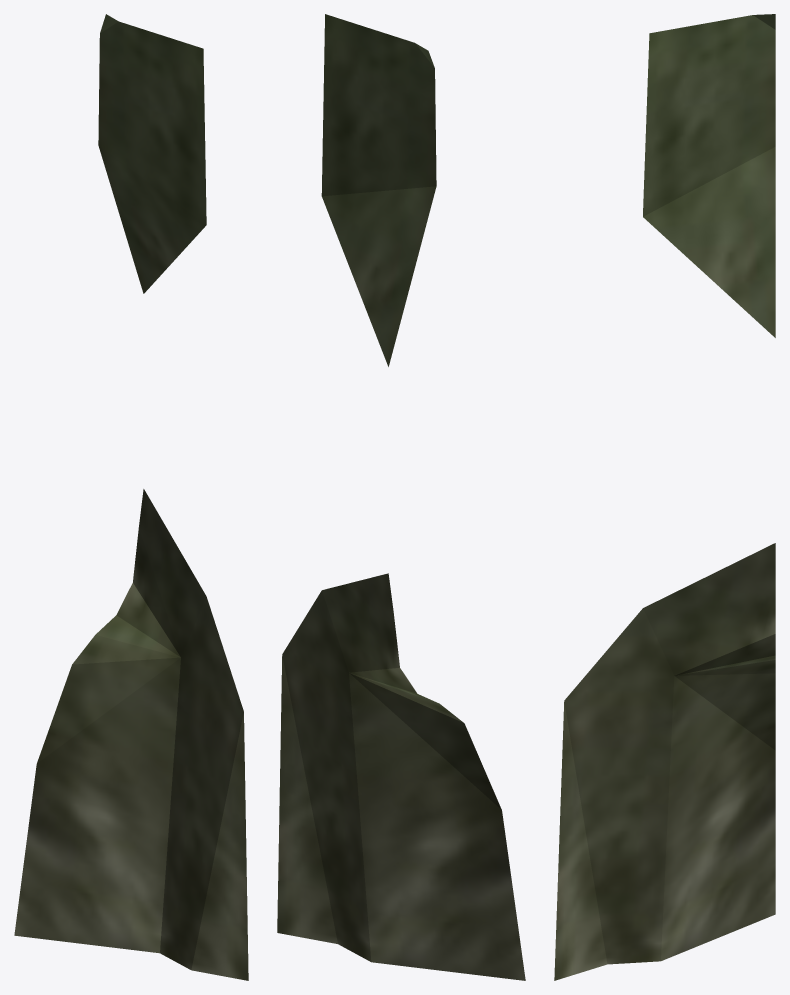
3 views of the same model, side by side, from view 1: azimuth 30°, elevation 25°; view 2: azimuth 210°, elevation 25°; view 3: azimuth 270°, elevation 25° (orthographic). The views are drawn at different scales.
Bounding box in the file's own units: 0.4437 × 2.95 × 0.6241.
1 material, 1 textured.
